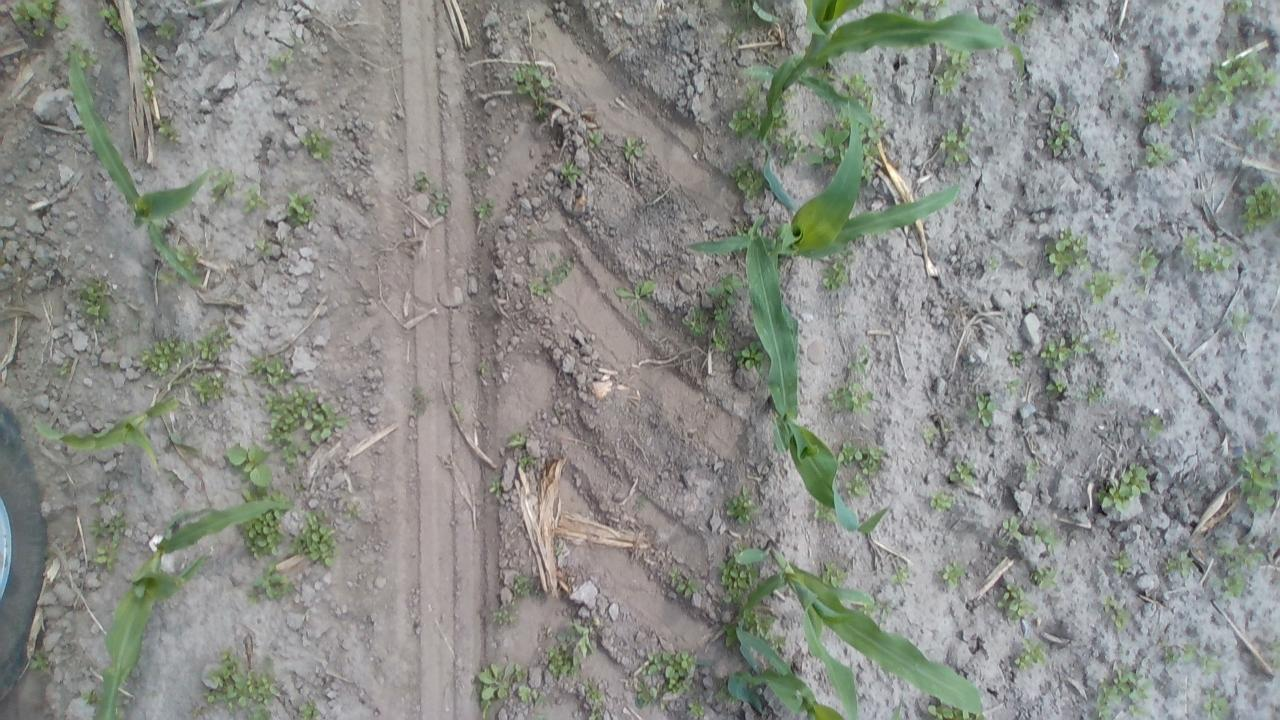Maize: (744, 213, 890, 534), (724, 540, 984, 720), (100, 499, 294, 720), (682, 100, 959, 253), (739, 3, 1027, 148), (68, 52, 204, 290), (726, 622, 843, 720), (35, 394, 170, 466)
Weeds: (1237, 454, 1280, 516), (1220, 545, 1264, 597), (294, 516, 338, 566), (1238, 181, 1280, 233), (228, 444, 272, 488), (309, 400, 347, 445), (235, 670, 281, 706), (616, 280, 652, 324), (478, 662, 516, 701), (249, 352, 290, 386), (248, 568, 292, 599), (242, 523, 281, 557), (810, 126, 840, 166), (512, 64, 549, 94), (965, 394, 996, 428), (1214, 68, 1246, 100), (731, 162, 762, 195), (1145, 92, 1175, 126), (712, 272, 742, 304), (544, 256, 572, 290), (1242, 50, 1266, 89), (192, 376, 228, 402), (145, 342, 177, 370), (1123, 462, 1149, 496), (288, 385, 314, 419), (1094, 678, 1115, 720), (726, 493, 754, 524), (1160, 553, 1196, 577), (212, 650, 238, 683), (1128, 668, 1153, 702), (478, 666, 494, 718), (1010, 6, 1036, 38), (302, 130, 330, 159), (1100, 485, 1130, 512), (196, 333, 224, 361), (681, 307, 708, 336), (1050, 242, 1073, 276), (8, 1, 54, 18), (1196, 248, 1226, 274), (84, 277, 103, 318), (574, 623, 592, 665), (95, 545, 120, 575), (1091, 273, 1115, 304), (201, 683, 232, 707), (286, 192, 314, 218), (822, 260, 847, 288), (782, 130, 804, 161), (722, 564, 748, 590), (1062, 334, 1088, 360), (728, 106, 756, 130), (240, 190, 264, 218), (1250, 111, 1272, 141), (846, 386, 870, 413), (664, 662, 688, 688), (102, 5, 122, 36), (1008, 597, 1037, 618), (1192, 94, 1217, 118), (264, 389, 288, 414), (950, 460, 976, 483), (1162, 646, 1193, 665), (106, 512, 125, 543), (741, 342, 761, 371), (846, 351, 871, 374), (862, 446, 882, 474), (1146, 143, 1170, 166), (839, 439, 861, 464), (154, 18, 180, 39), (826, 384, 847, 410), (429, 188, 448, 216), (1023, 640, 1046, 663), (676, 577, 700, 599), (934, 69, 956, 93), (712, 330, 736, 352), (270, 413, 295, 434), (1206, 692, 1226, 718), (550, 654, 572, 677), (214, 172, 237, 194), (1030, 522, 1052, 544), (846, 475, 869, 496), (842, 74, 868, 92), (685, 699, 707, 720), (1040, 346, 1060, 369), (558, 162, 580, 182), (998, 517, 1021, 536), (625, 137, 642, 162), (1032, 566, 1052, 587), (518, 685, 540, 704), (951, 52, 974, 70), (822, 564, 846, 581), (588, 691, 602, 720), (946, 146, 966, 166), (1054, 121, 1070, 146), (1146, 412, 1162, 437), (929, 492, 951, 510), (1138, 250, 1156, 272), (242, 708, 274, 720), (943, 562, 963, 581), (474, 200, 496, 217), (514, 576, 532, 596), (646, 652, 664, 672), (1112, 608, 1130, 628), (1116, 669, 1130, 694), (1183, 231, 1201, 250), (1261, 430, 1278, 450), (1073, 238, 1087, 262), (1112, 552, 1130, 570), (713, 306, 732, 323), (494, 608, 514, 624), (1104, 327, 1120, 347), (554, 634, 571, 652), (301, 703, 319, 720), (746, 84, 762, 103), (1059, 226, 1074, 246), (676, 652, 694, 668), (898, 0, 922, 12), (412, 172, 428, 190), (268, 56, 292, 68), (90, 516, 106, 534), (1045, 127, 1060, 146), (1046, 378, 1066, 392), (284, 444, 298, 464), (1014, 654, 1031, 670), (140, 57, 156, 74), (1229, 3, 1253, 14), (53, 14, 69, 30), (1007, 380, 1020, 399), (762, 614, 777, 630), (588, 133, 604, 148), (869, 126, 882, 144), (156, 121, 174, 134), (30, 656, 49, 668), (1102, 598, 1118, 612), (1090, 386, 1102, 404), (744, 611, 756, 628), (838, 251, 856, 262), (1008, 352, 1022, 366), (1004, 584, 1016, 600), (142, 83, 154, 99), (1267, 67, 1277, 86), (988, 255, 999, 272), (582, 679, 596, 692), (940, 706, 954, 718), (946, 128, 958, 142), (535, 107, 548, 118), (33, 26, 44, 38), (477, 364, 488, 375), (962, 122, 970, 136), (924, 427, 932, 440), (864, 168, 872, 180), (928, 0, 941, 7), (535, 286, 543, 296)
